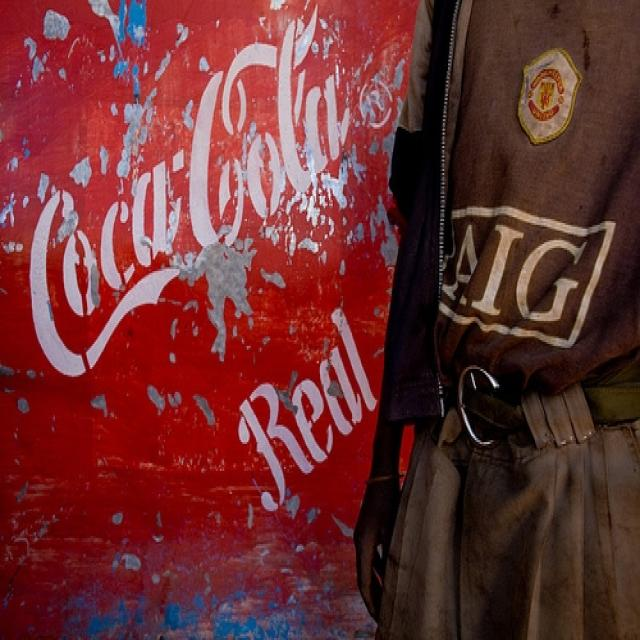cocacola: (18, 3, 368, 387)
